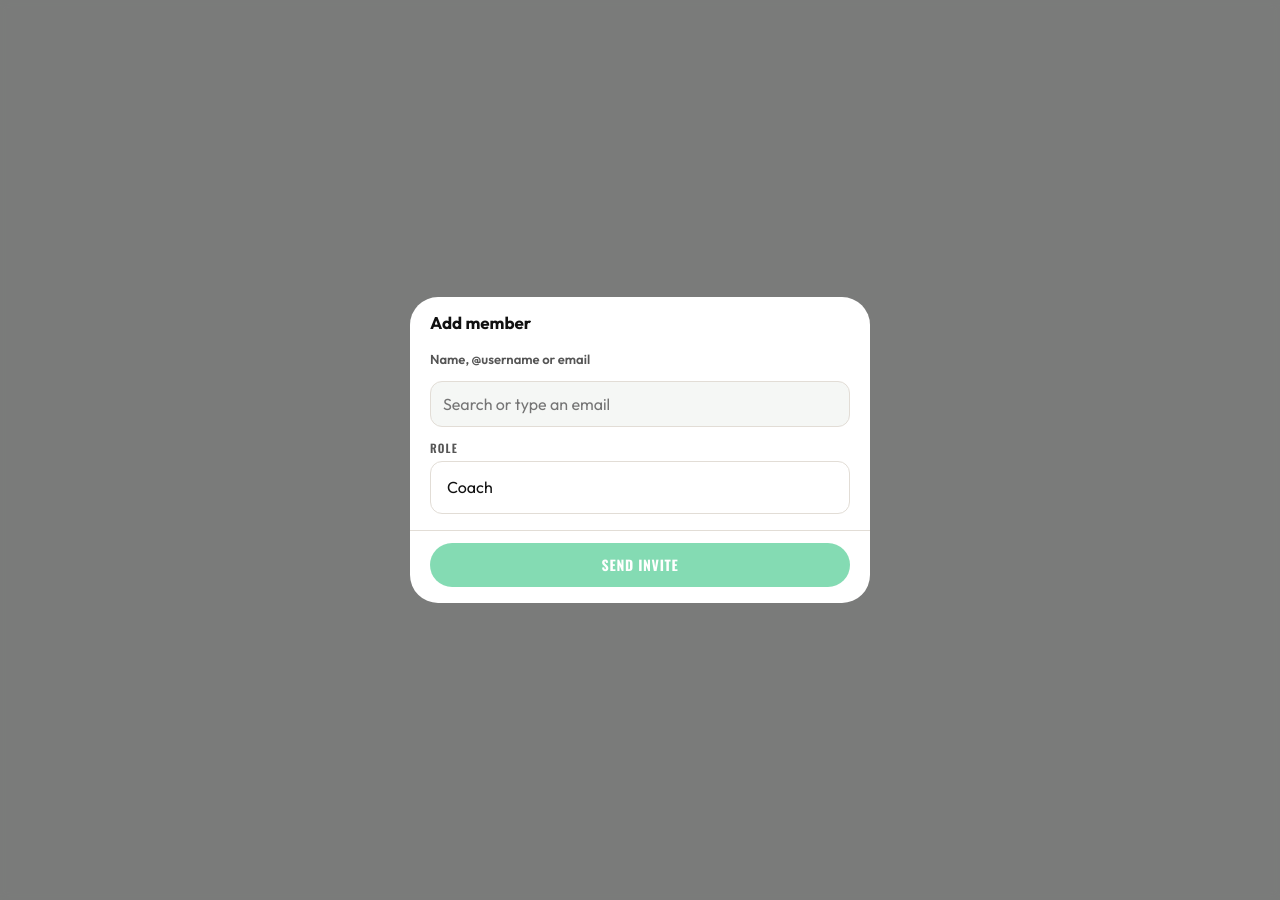
Test case: AddMemberSheet: refusals › already_invited reads as a sentence, in the sheet
The image size is (1280, 900).
Type "new@else.example" into the field labelled "Name, @username or email". click: coordinates (640, 404)
box: [430,381,850,427]
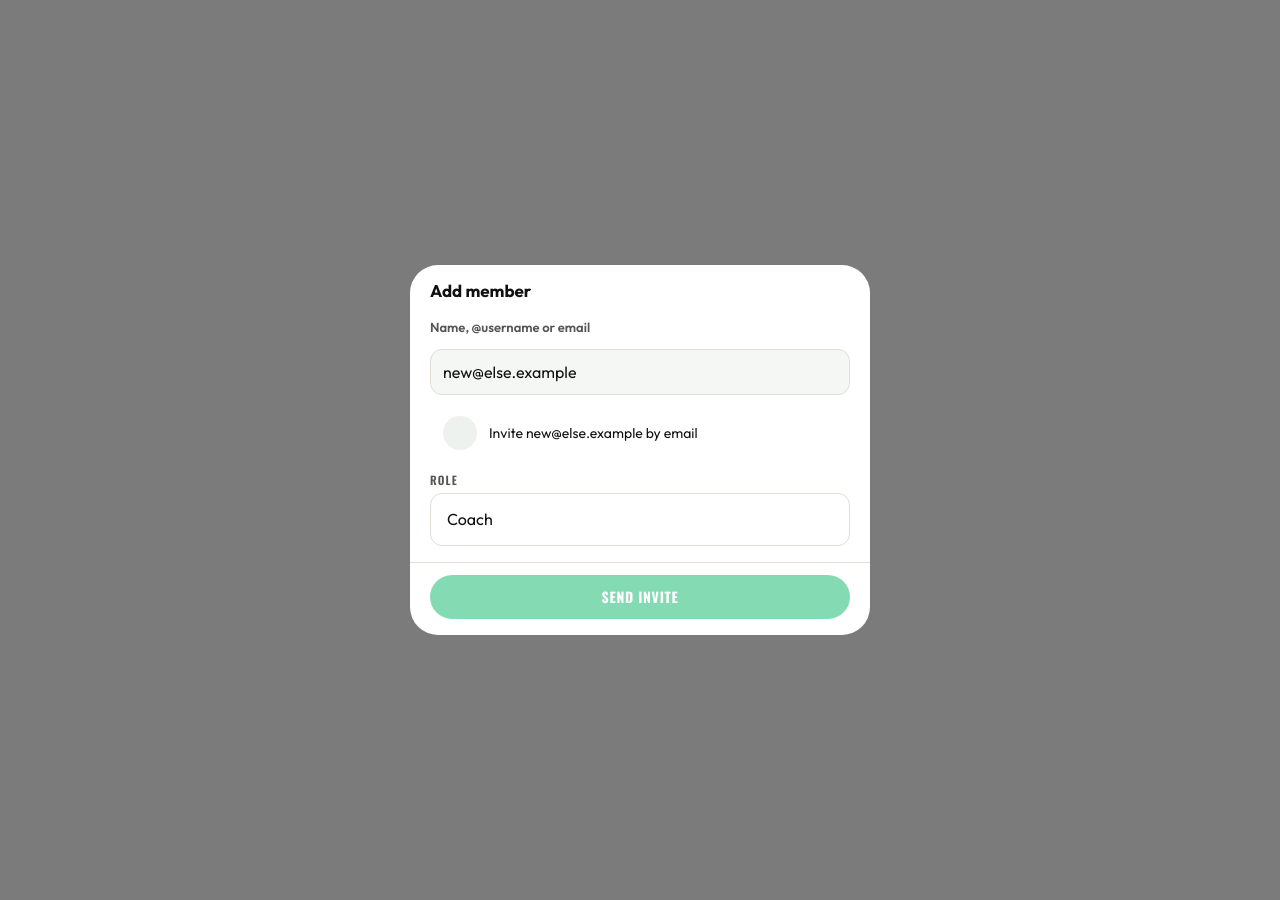
Click the button "Invite new@else.example by email". click: coordinates (640, 433)
box: [430,407,850,459]
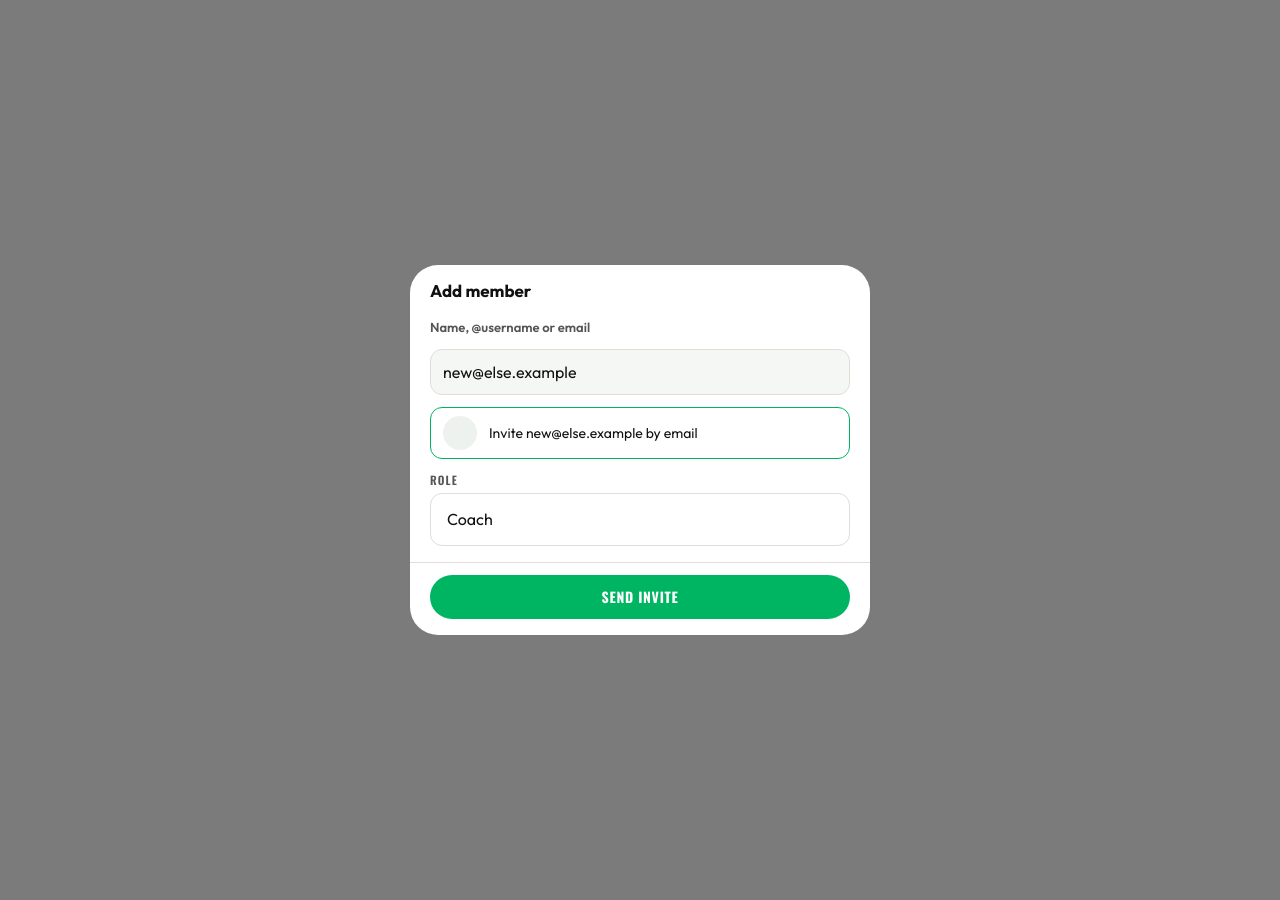
Click the button "Send invite". click: coordinates (640, 597)
box: [430,575,850,619]
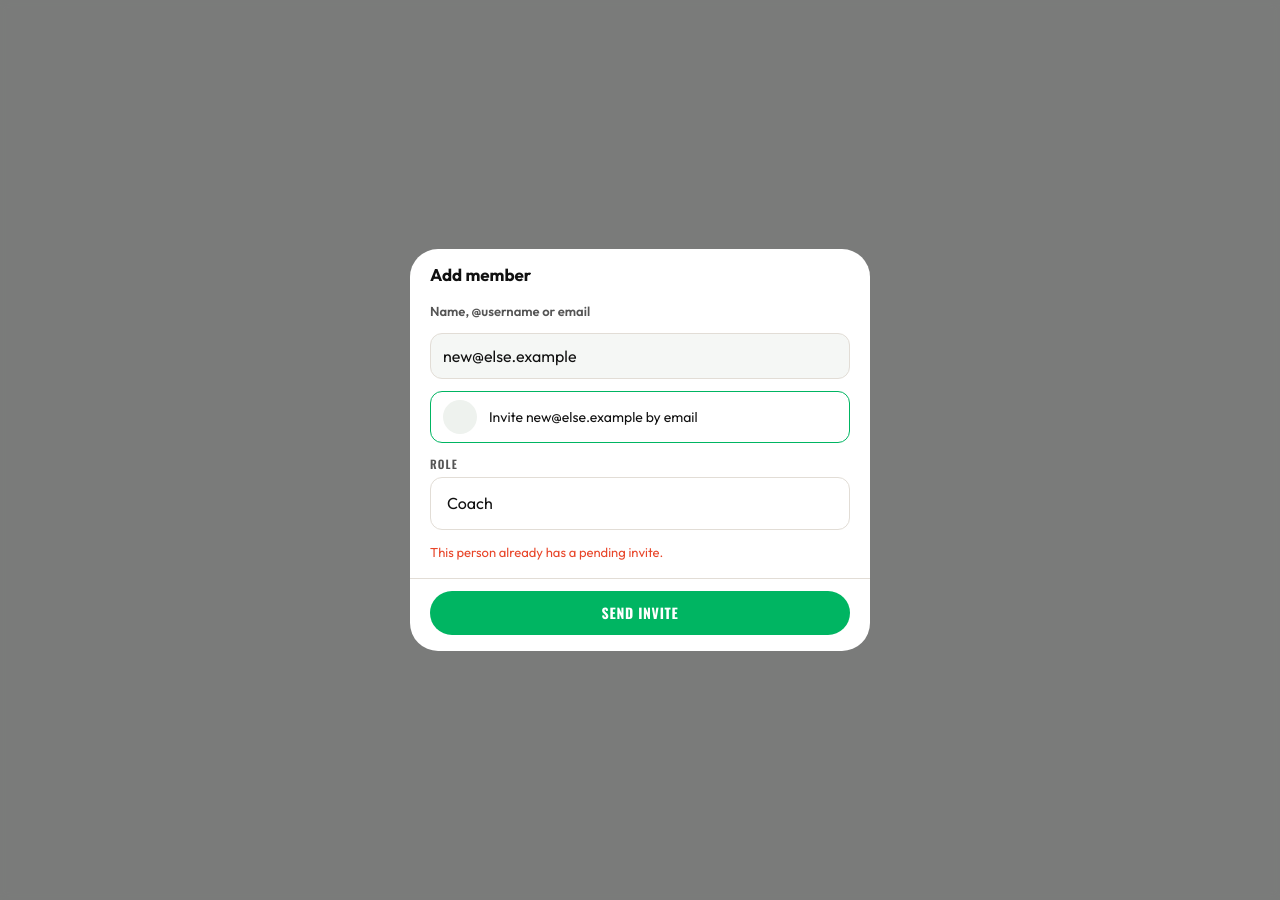
Expected: the message reads "This person already has a pending invite.", [430,544,663,560]
